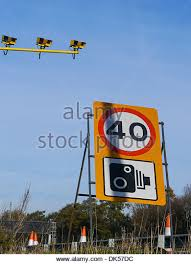Speed_limit_40km: (98, 107, 158, 158)
